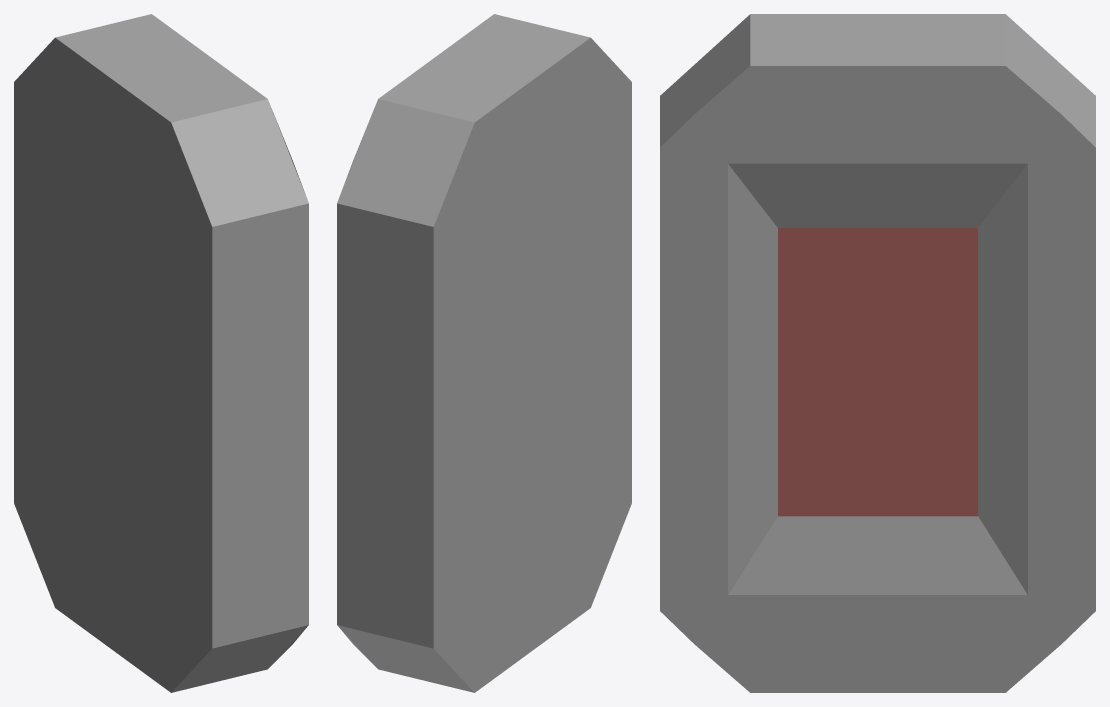
File: SM_KeycardPanel.fbx
The picture shows the model from 3 angles, left to right: view 1: azimuth 30°, elevation 25°; view 2: azimuth 150°, elevation 25°; view 3: azimuth 270°, elevation 25°; orthographic projection. The views are drawn at different scales.
Parts seen in each view (by area): view 1: SM_KeycardCheck; view 2: SM_KeycardCheck; view 3: SM_KeycardCheck.
Boxes of the visible parts, bbox=[...] form: SM_KeycardCheck: bbox=[14, 14, 308, 692]; SM_KeycardCheck: bbox=[337, 14, 631, 692]; SM_KeycardCheck: bbox=[660, 14, 1095, 692].
Bounding box in the file's own units: 10.57 × 59.62 × 37.55.
